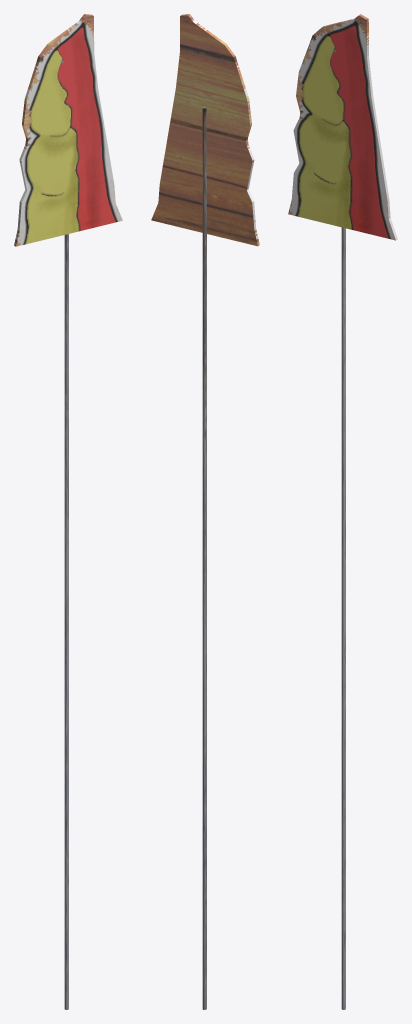
File: Dragon.fbx
The picture shows the model from 3 angles, left to right: view 1: azimuth 30°, elevation 25°; view 2: azimuth 150°, elevation 25°; view 3: azimuth 330°, elevation 25°; orthographic projection.
Parts seen in each view (by area): view 1: Plane.001, Player; view 2: Plane.001, Player; view 3: Plane.001, Player.
Boxes of the visible parts, box(x1,y1,x2,y2) form: Plane.001: box(14, 14, 122, 246); Player: box(64, 234, 68, 1009); Plane.001: box(151, 14, 259, 246); Player: box(202, 107, 206, 1009); Plane.001: box(288, 14, 397, 240); Player: box(341, 227, 345, 1009).
Size of the model in its own units: 99.46 by 880 by 5.37.
